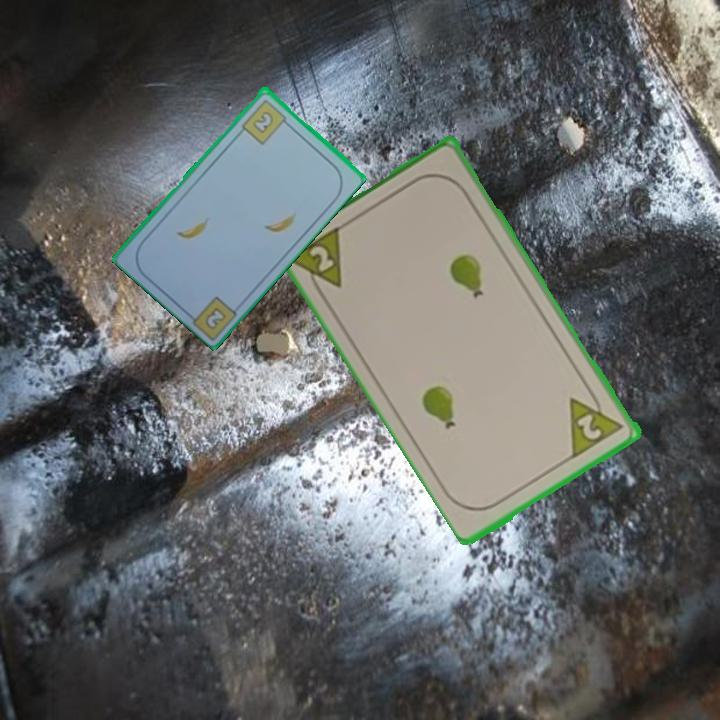2b: (238, 95, 293, 147), (201, 303, 229, 332)
2p: (566, 383, 628, 461), (287, 222, 346, 303)
